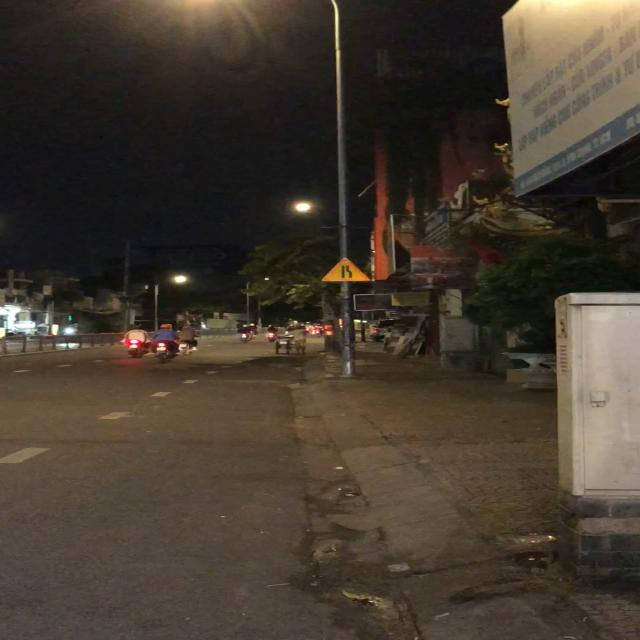Bien bao duong bi thu hep: (320, 255, 373, 282)
